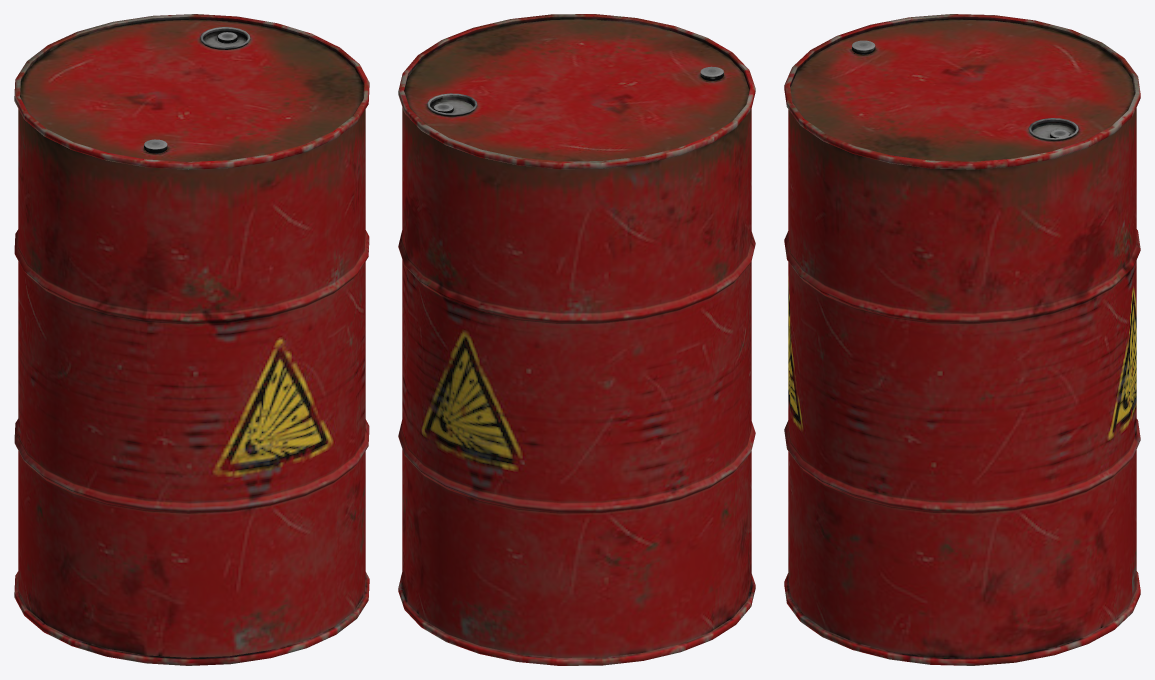
File: detail.fbx
The picture shows the model from 3 angles, left to right: view 1: azimuth 30°, elevation 25°; view 2: azimuth 150°, elevation 25°; view 3: azimuth 270°, elevation 25°; orthographic projection.
Parts seen in each view (by area): view 1: Barrel_01; view 2: Barrel_01; view 3: Barrel_01.
Part boxes in pixels (left/top/right/bottom): Barrel_01: left=14, top=14, right=369, bottom=665; Barrel_01: left=398, top=14, right=755, bottom=665; Barrel_01: left=784, top=14, right=1140, bottom=665.
Bounding box in the file's own units: 56.3 × 88 × 56.3.
